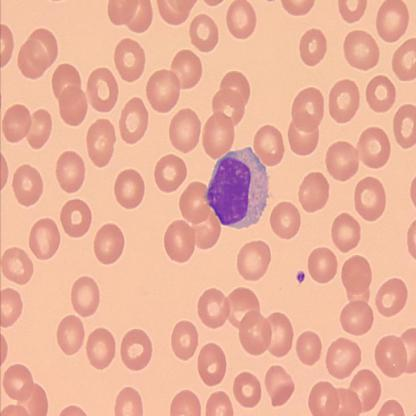Atypical lymphocyte: (206, 145, 270, 229)
